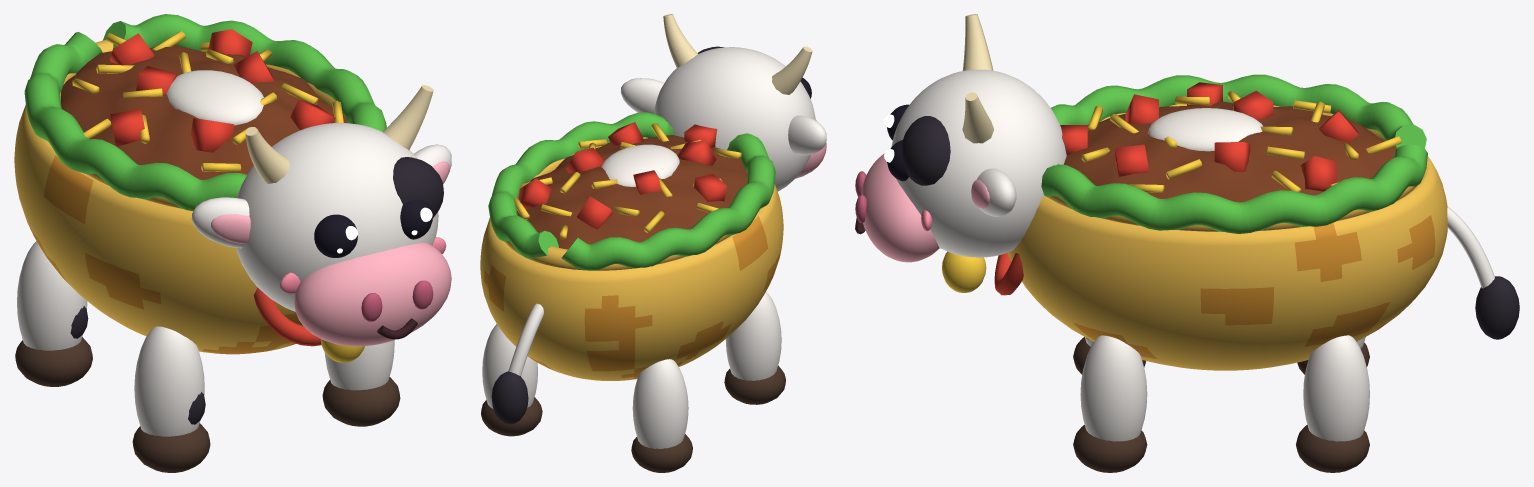
The model's file is pilot_ku_taco.glb.
The picture shows the model from 3 angles, left to right: view 1: azimuth 30°, elevation 25°; view 2: azimuth 150°, elevation 25°; view 3: azimuth 270°, elevation 25°; orthographic projection. The views are drawn at different scales.
Parts seen in each view (by area): view 1: kropp, hode, bein_vf, bein_vb, bein_hf; view 2: kropp, hode, bein_vb, bein_vf, bein_hb, hale; view 3: kropp, hode, bein_hb, bein_hf, hale.
Part boxes in pixels (x1,y1,x2,y2): kropp: (14,14,386,354); hode: (191,85,451,362); bein_vf: (132,326,210,472); bein_vb: (15,241,92,386); bein_hf: (322,340,400,426); kropp: (480,112,783,380); hode: (620,14,826,191); bein_vb: (631,359,692,472); bein_vf: (724,292,785,404); bein_hb: (481,324,542,436); hale: (491,303,543,424); kropp: (1007,74,1447,370); hode: (855,14,1066,295); bein_hb: (1296,335,1369,472); bein_hf: (1073,335,1147,472); hale: (1447,207,1519,339).
Size of the model in its own units: 0.8896 by 1.1 by 1.79.
